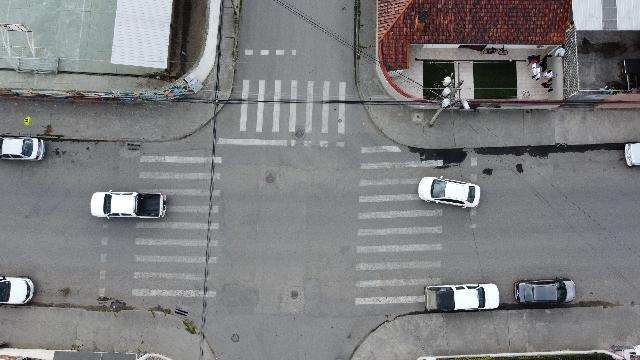Vehiculo: (424, 282, 500, 312), (90, 190, 166, 218), (418, 176, 480, 208), (514, 277, 576, 305), (0, 136, 46, 160), (1, 276, 34, 304), (625, 142, 640, 166)
